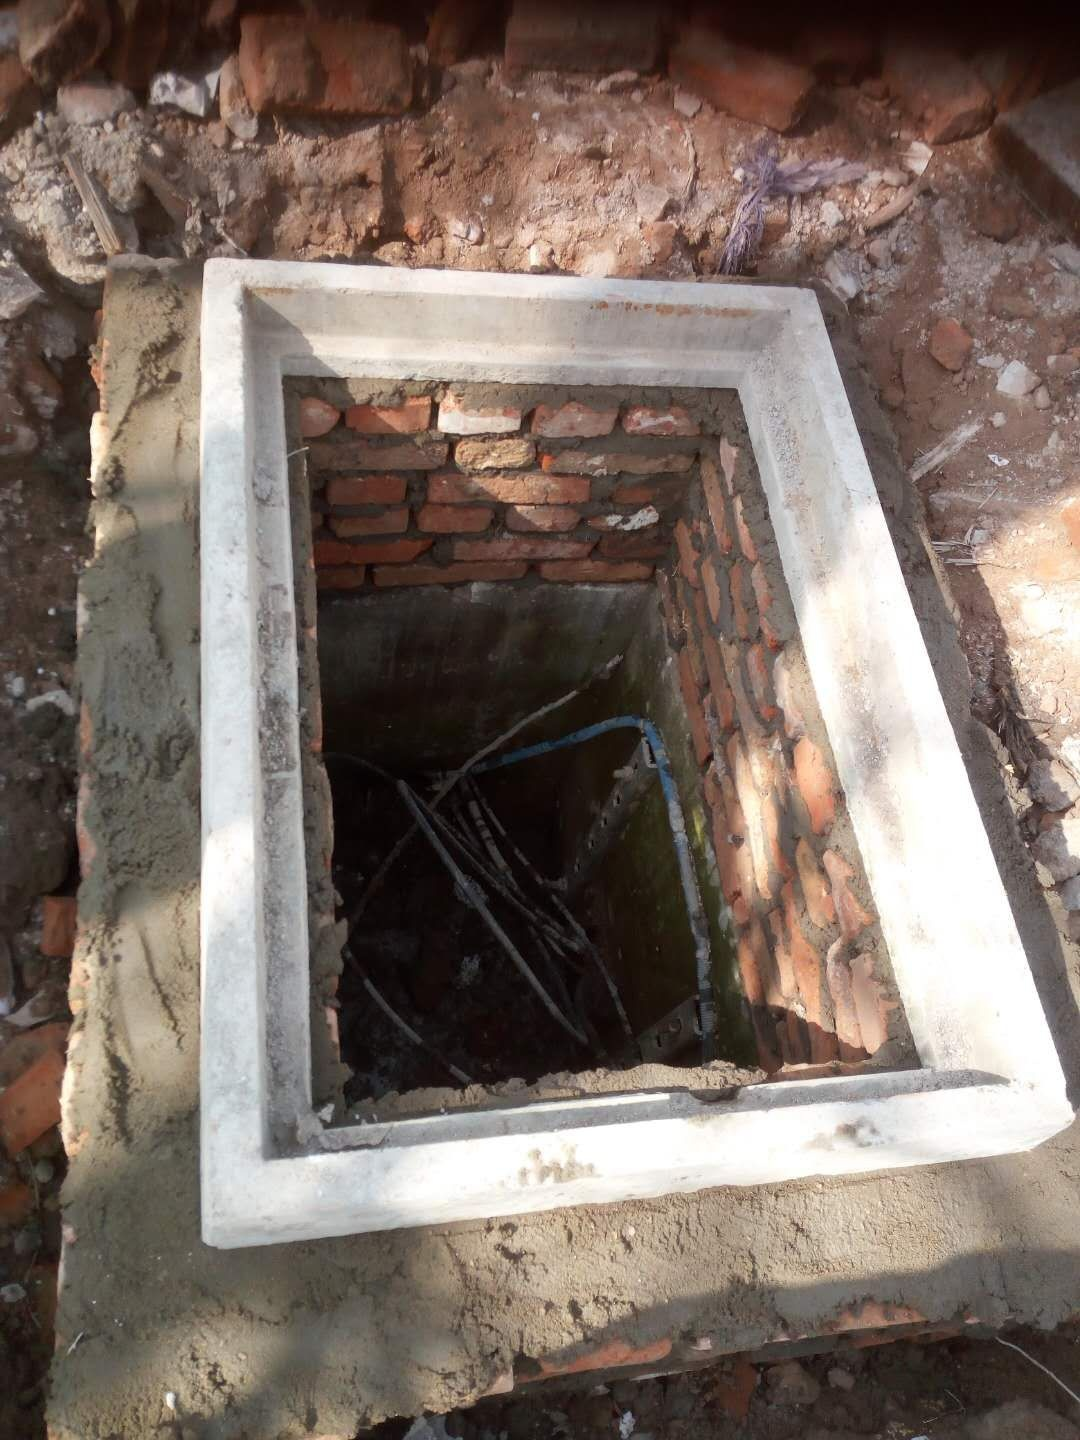lose: (199, 254, 1080, 1248)
